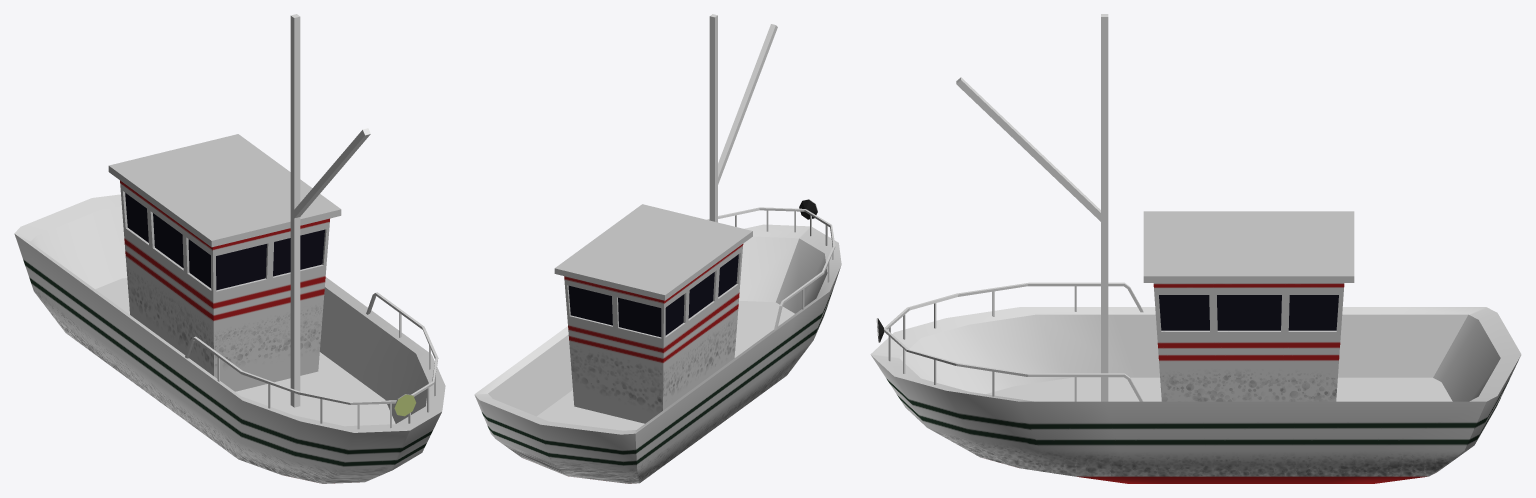
The model's file is simple_low_poly_boat.glb.
3 renders of one model, left to right at view 1: azimuth 30°, elevation 25°; view 2: azimuth 150°, elevation 25°; view 3: azimuth 270°, elevation 25°, orthographic. The views are drawn at different scales.
Parts seen in each view (by area): view 1: Hall, Cabin, Pole; view 2: Hall, Cabin, Pole; view 3: Hall, Cabin, Pole.
Boxes of the visible parts, x1,y1,x2,y2 form: Hall: (14,194,445,483); Cabin: (108,134,341,391); Pole: (290,14,370,407); Hall: (474,207,841,483); Cabin: (554,204,752,423); Pole: (709,14,777,222); Hall: (870,282,1521,483); Cabin: (1143,211,1354,401); Pole: (956,14,1108,401).
Size of the model in its own units: 6.21 by 13.6 by 18.09.
4 materials, 3 textured.
